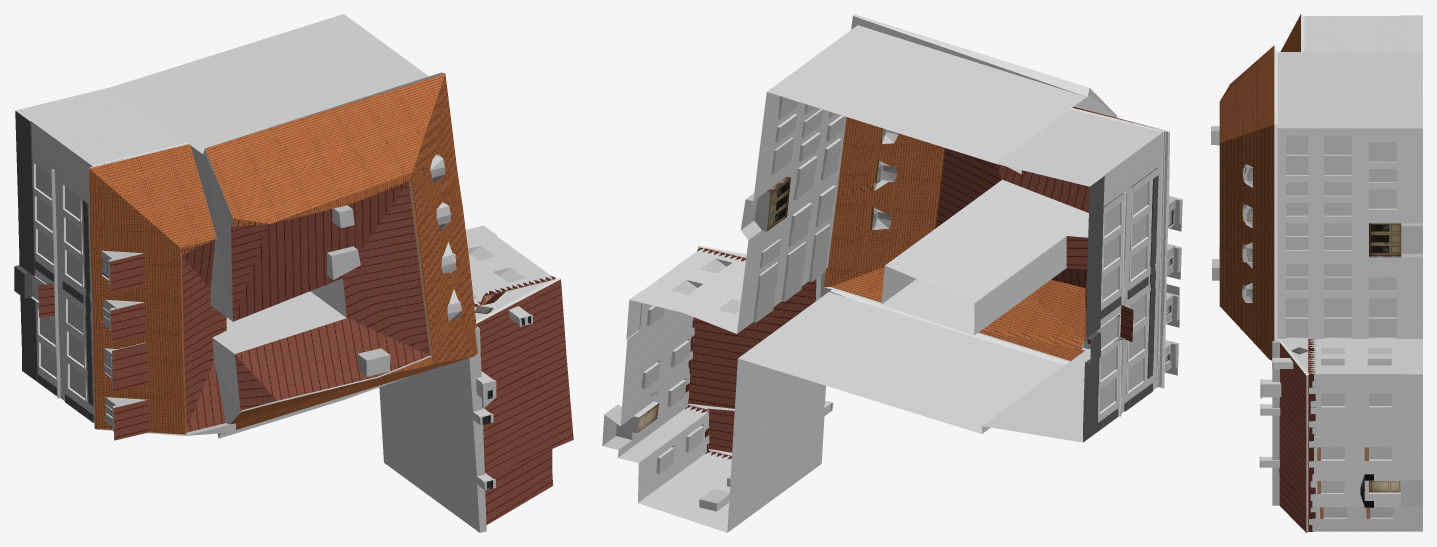
File: Uus_28-origo.obj
The picture shows the model from 3 angles, left to right: view 1: azimuth 30°, elevation 25°; view 2: azimuth 150°, elevation 25°; view 3: azimuth 270°, elevation 25°; orthographic projection. The views are drawn at different scales.
Parts seen in each view (by area): view 1: Uus28; view 2: Uus28; view 3: Uus28.
Part boxes in pixels (x1,y1,x2,y2): Uus28: (14, 14, 573, 532); Uus28: (602, 14, 1182, 532); Uus28: (1211, 14, 1422, 532).
Size of the model in its own units: 32.5 by 28.5 by 14.95.
